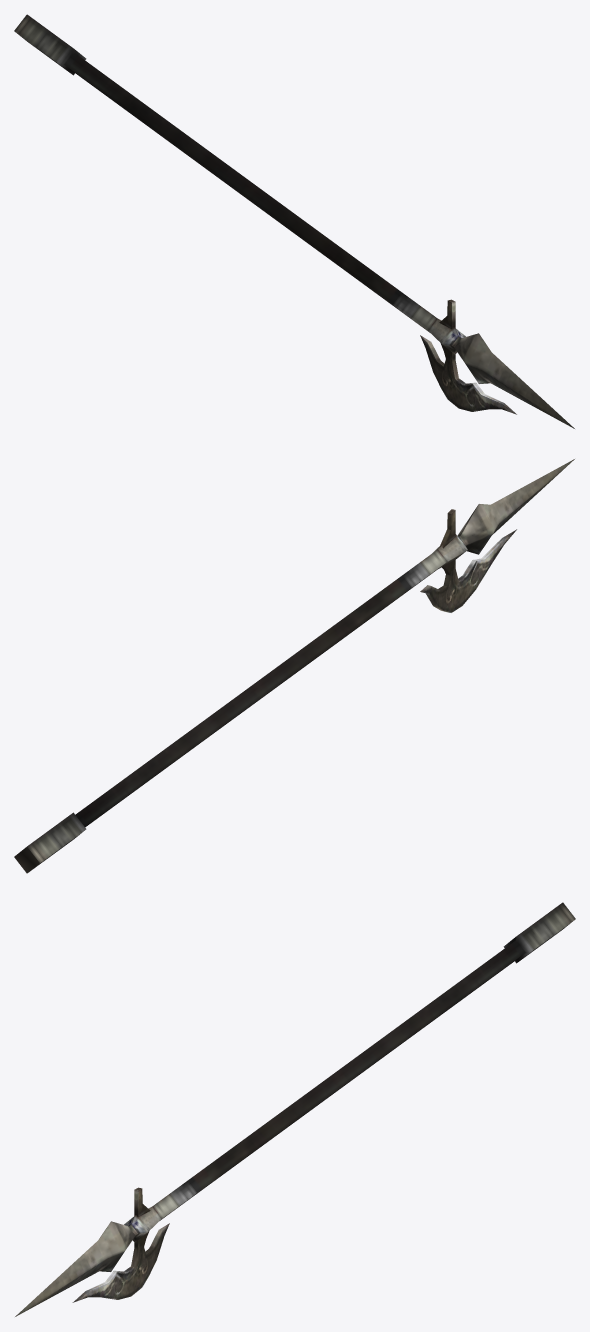
File: proj_empireknight.fbx
3 views of the same model, one above another, from view 1: azimuth 30°, elevation 25°; view 2: azimuth 150°, elevation 25°; view 3: azimuth 330°, elevation 25° (orthographic).
Parts seen in each view (by area): view 1: Spear; view 2: Spear; view 3: Spear.
Boxes of the visible parts, x1,y1,x2,y2 form: Spear: (14,14,574,428); Spear: (14,459,574,873); Spear: (15,902,575,1316).
Bounding box in the file's own units: 0.1106 × 0.3635 × 3.58.
1 material, 1 textured.
